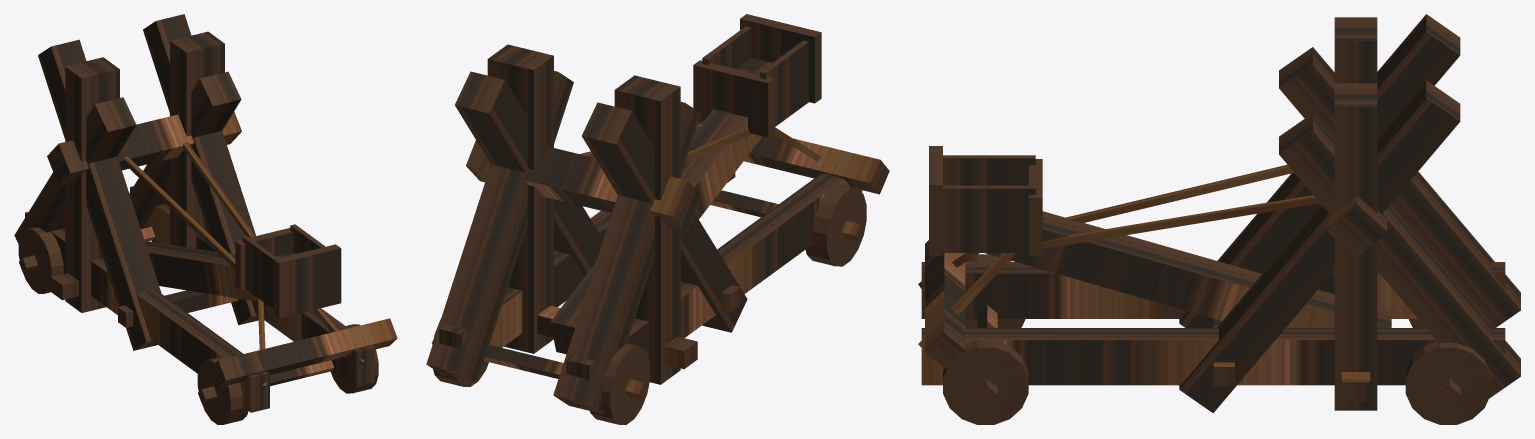
The picture shows the model from 3 angles, left to right: view 1: azimuth 30°, elevation 25°; view 2: azimuth 150°, elevation 25°; view 3: azimuth 270°, elevation 25°; orthographic projection. The views are drawn at different scales.
Parts seen in each view (by area): view 1: f88dc902-4c9a-887f-e535-77931a9edb13, 7bd31d19-ecb3-1e13-b2d2-e16efed15287, dfda1f79-9457-000f-b613-47417c6a1237, 104b82d6-730b-afef-37cd-07d32e933c26, 38dd5815-bd55-3555-6acc-8d036fe136c2, 4aaa1af5-d367-816a-2355-505a9cfad3b0, 979fe00a-6825-7aae-77e1-4041424d8619, d32ee394-4a48-5d7d-a82c-74c8b3942a79, b353d67f-fcae-cc31-82bf-804e1f782f04, da16c8f6-5bc2-e5a0-b701-72906722b33f, e1ee39e9-97e8-b297-5909-5dd6c60ffa3f, 858befaf-8f6a-ca14-acd6-aa2b6dd2d306 (+16 smaller); view 2: b353d67f-fcae-cc31-82bf-804e1f782f04, 4aaa1af5-d367-816a-2355-505a9cfad3b0, 104b82d6-730b-afef-37cd-07d32e933c26, 7bd31d19-ecb3-1e13-b2d2-e16efed15287, f88dc902-4c9a-887f-e535-77931a9edb13, dfda1f79-9457-000f-b613-47417c6a1237, d32ee394-4a48-5d7d-a82c-74c8b3942a79, e1ee39e9-97e8-b297-5909-5dd6c60ffa3f, da16c8f6-5bc2-e5a0-b701-72906722b33f, 5395f6b8-549a-6ffc-51ba-c1602fb7fb51, 38dd5815-bd55-3555-6acc-8d036fe136c2, 738740cd-6b09-3727-55db-df87a9073a6b (+23 smaller); view 3: dfda1f79-9457-000f-b613-47417c6a1237, e1ee39e9-97e8-b297-5909-5dd6c60ffa3f, b353d67f-fcae-cc31-82bf-804e1f782f04, 104b82d6-730b-afef-37cd-07d32e933c26, 4aaa1af5-d367-816a-2355-505a9cfad3b0, 9e40c7d0-8551-a6a6-0f17-e25e9ee13671, f88dc902-4c9a-887f-e535-77931a9edb13, 858befaf-8f6a-ca14-acd6-aa2b6dd2d306, da16c8f6-5bc2-e5a0-b701-72906722b33f, 38dd5815-bd55-3555-6acc-8d036fe136c2, 087f715d-0c60-81be-b809-31f418129689, 7bd31d19-ecb3-1e13-b2d2-e16efed15287 (+28 smaller).
Part boxes in pixels (x1=…): f88dc902-4c9a-887f-e535-77931a9edb13: x1=38, y1=39, x2=161, y2=350; 7bd31d19-ecb3-1e13-b2d2-e16efed15287: x1=65, y1=57, x2=119, y2=312; dfda1f79-9457-000f-b613-47417c6a1237: x1=143, y1=14, x2=258, y2=325; 104b82d6-730b-afef-37cd-07d32e933c26: x1=170, y1=31, x2=224, y2=248; 38dd5815-bd55-3555-6acc-8d036fe136c2: x1=210, y1=318, x2=397, y2=387; 4aaa1af5-d367-816a-2355-505a9cfad3b0: x1=14, y1=97, x2=136, y2=243; 979fe00a-6825-7aae-77e1-4041424d8619: x1=273, y1=244, x2=341, y2=318; d32ee394-4a48-5d7d-a82c-74c8b3942a79: x1=47, y1=111, x2=241, y2=185; b353d67f-fcae-cc31-82bf-804e1f782f04: x1=129, y1=71, x2=241, y2=228; da16c8f6-5bc2-e5a0-b701-72906722b33f: x1=160, y1=307, x2=269, y2=412; e1ee39e9-97e8-b297-5909-5dd6c60ffa3f: x1=145, y1=241, x2=257, y2=301; 858befaf-8f6a-ca14-acd6-aa2b6dd2d306: x1=265, y1=303, x2=374, y2=386; b353d67f-fcae-cc31-82bf-804e1f782f04: x1=426, y1=71, x2=573, y2=383; 4aaa1af5-d367-816a-2355-505a9cfad3b0: x1=553, y1=102, x2=700, y2=413; 104b82d6-730b-afef-37cd-07d32e933c26: x1=487, y1=44, x2=553, y2=353; 7bd31d19-ecb3-1e13-b2d2-e16efed15287: x1=614, y1=75, x2=680, y2=384; f88dc902-4c9a-887f-e535-77931a9edb13: x1=582, y1=102, x2=747, y2=332; dfda1f79-9457-000f-b613-47417c6a1237: x1=455, y1=71, x2=603, y2=276; d32ee394-4a48-5d7d-a82c-74c8b3942a79: x1=466, y1=140, x2=701, y2=231; e1ee39e9-97e8-b297-5909-5dd6c60ffa3f: x1=550, y1=69, x2=762, y2=354; da16c8f6-5bc2-e5a0-b701-72906722b33f: x1=730, y1=173, x2=862, y2=288; 5395f6b8-549a-6ffc-51ba-c1602fb7fb51: x1=693, y1=60, x2=774, y2=137; 38dd5815-bd55-3555-6acc-8d036fe136c2: x1=697, y1=121, x2=889, y2=194; 738740cd-6b09-3727-55db-df87a9073a6b: x1=566, y1=240, x2=752, y2=407; dfda1f79-9457-000f-b613-47417c6a1237: x1=1179, y1=80, x2=1460, y2=413; e1ee39e9-97e8-b297-5909-5dd6c60ffa3f: x1=985, y1=211, x2=1391, y2=327; b353d67f-fcae-cc31-82bf-804e1f782f04: x1=1279, y1=113, x2=1520, y2=398; 104b82d6-730b-afef-37cd-07d32e933c26: x1=1334, y1=83, x2=1377, y2=410; 4aaa1af5-d367-816a-2355-505a9cfad3b0: x1=1279, y1=47, x2=1520, y2=327; 9e40c7d0-8551-a6a6-0f17-e25e9ee13671: x1=1156, y1=328, x2=1505, y2=385; f88dc902-4c9a-887f-e535-77931a9edb13: x1=1179, y1=14, x2=1460, y2=327; 858befaf-8f6a-ca14-acd6-aa2b6dd2d306: x1=921, y1=328, x2=1156, y2=385; da16c8f6-5bc2-e5a0-b701-72906722b33f: x1=921, y1=262, x2=1156, y2=318; 38dd5815-bd55-3555-6acc-8d036fe136c2: x1=925, y1=240, x2=965, y2=368; 087f715d-0c60-81be-b809-31f418129689: x1=943, y1=185, x2=1035, y2=220; 7bd31d19-ecb3-1e13-b2d2-e16efed15287: x1=1334, y1=17, x2=1377, y2=83.
Bounding box in the file's own units: 2.31 × 3.12 × 5.29.
1 material, 1 textured.
